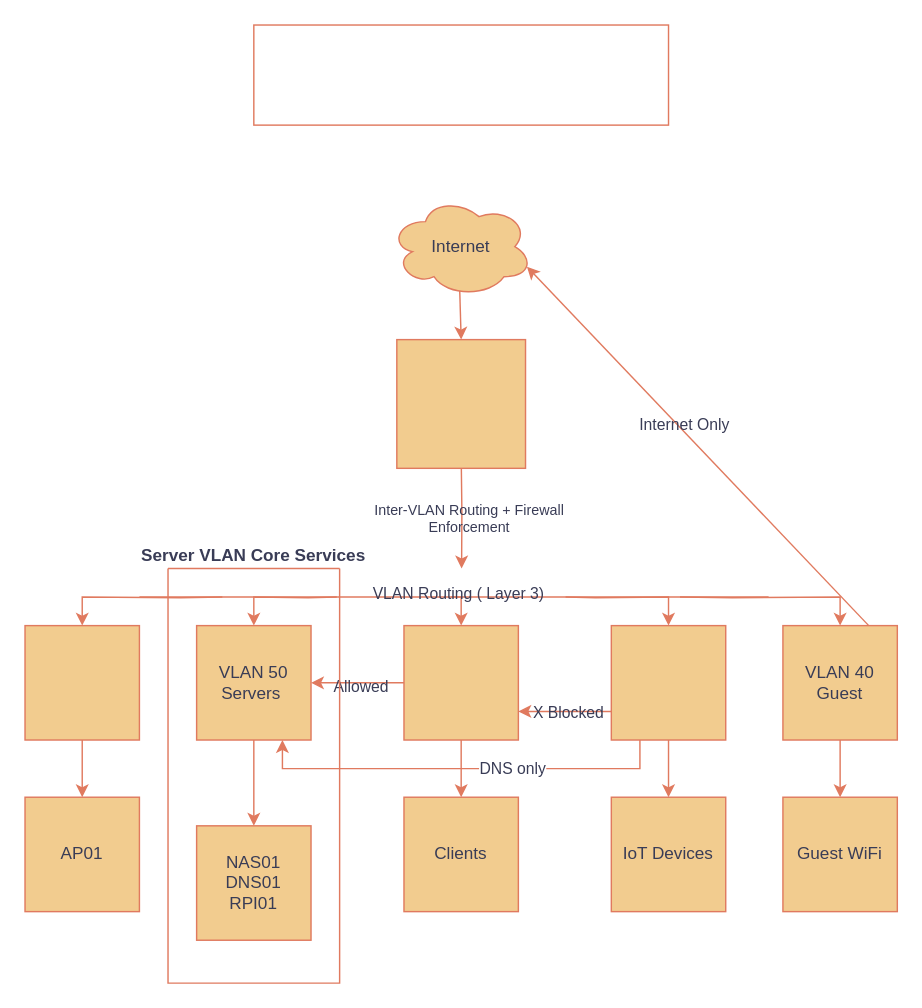
Some shapes in this 922 by 1008 pixel diagram are drawn without their labels. The shapes that lost their labels are listed below. From the top down, each one's centre as x and y in pixels, then its label:
the point at 460,74: Site A - Detailed Topo;logy Core Routing / VLAN Segmentation / Services
the point at 460,403: UDM-Pro Core Router / Firewall
the point at 81,682: VLAN 90 Management
the point at 460,682: VLAN 20 Trusted
the point at 668,682: VLAN 30 IoT
